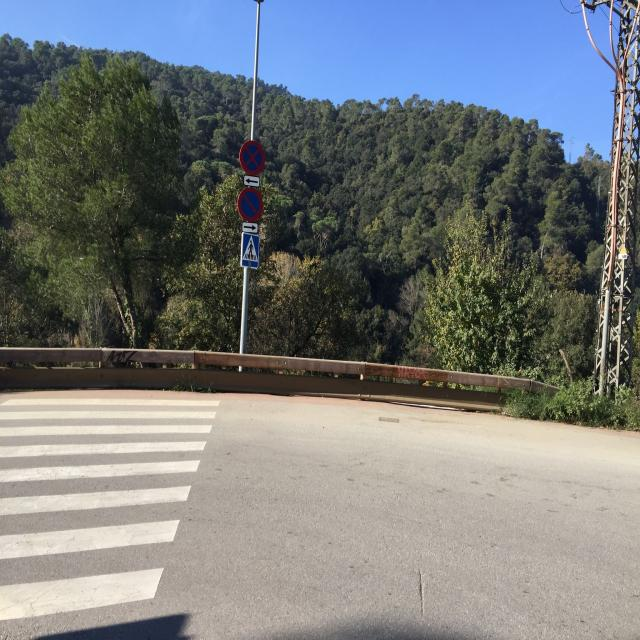forb_stopping: (236, 185, 265, 224)
forb_waiting: (239, 140, 266, 176)
